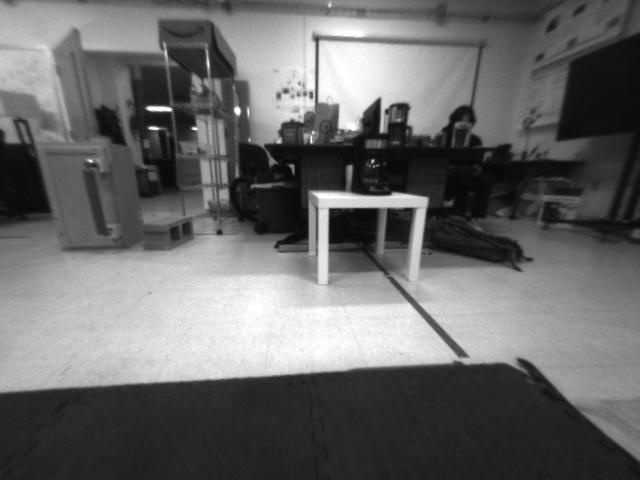coffee_pot: (349, 132, 393, 199)
